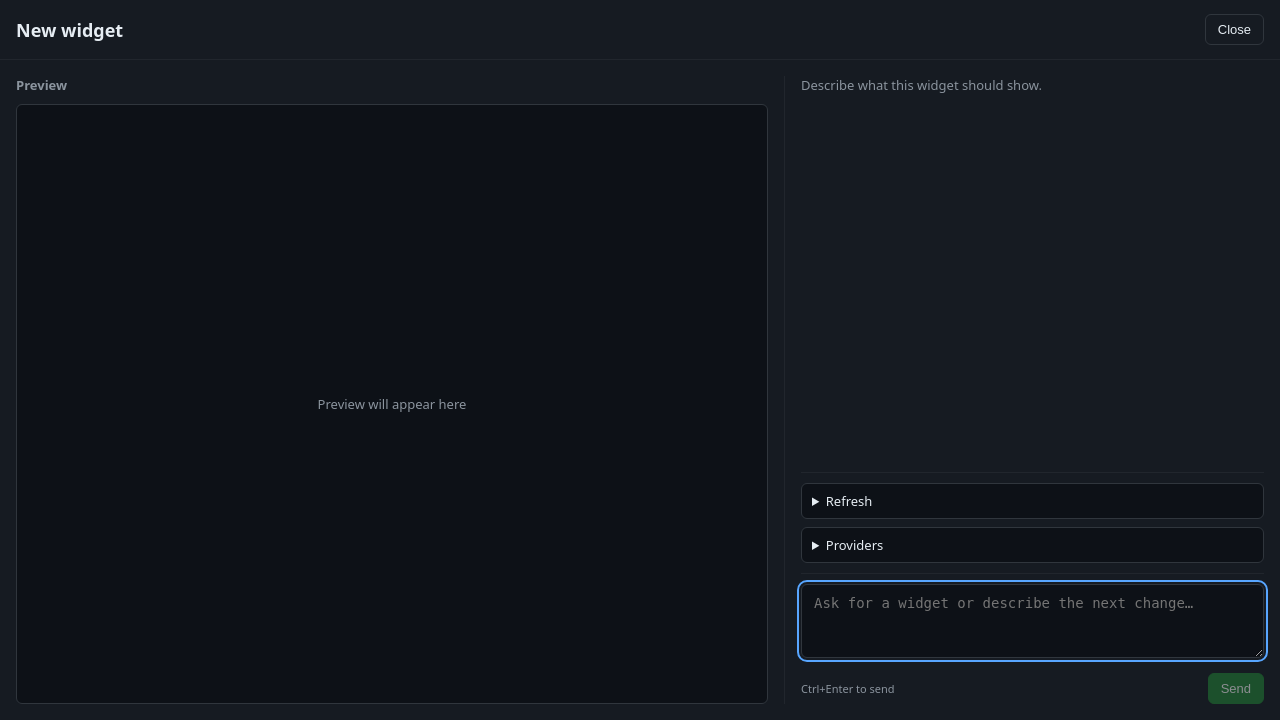
Scenario: WidgetWorkspace › scrolls to the bottom after sending a create message
This screenshot has width=1280, height=720.
In the text box named "widget message": (1032, 621) [801, 584, 1264, 658], type "show weather"
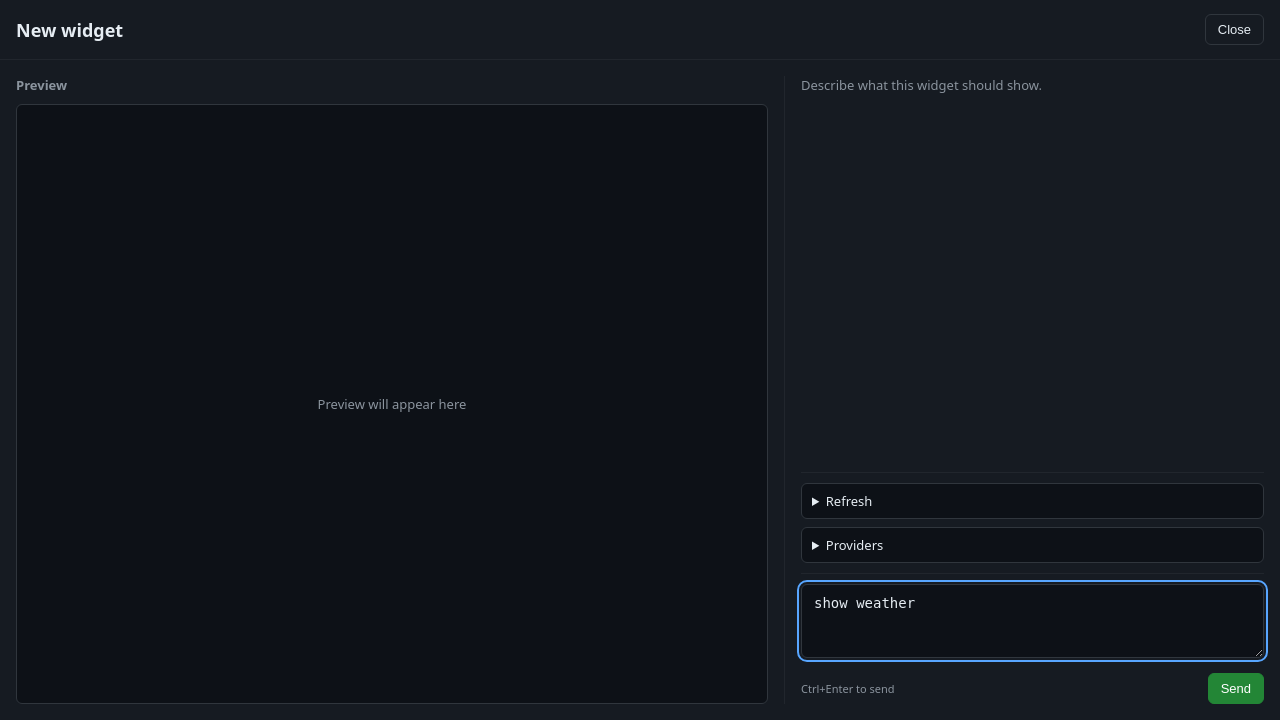
Click the button "Send": (1236, 688) [1208, 673, 1264, 704]
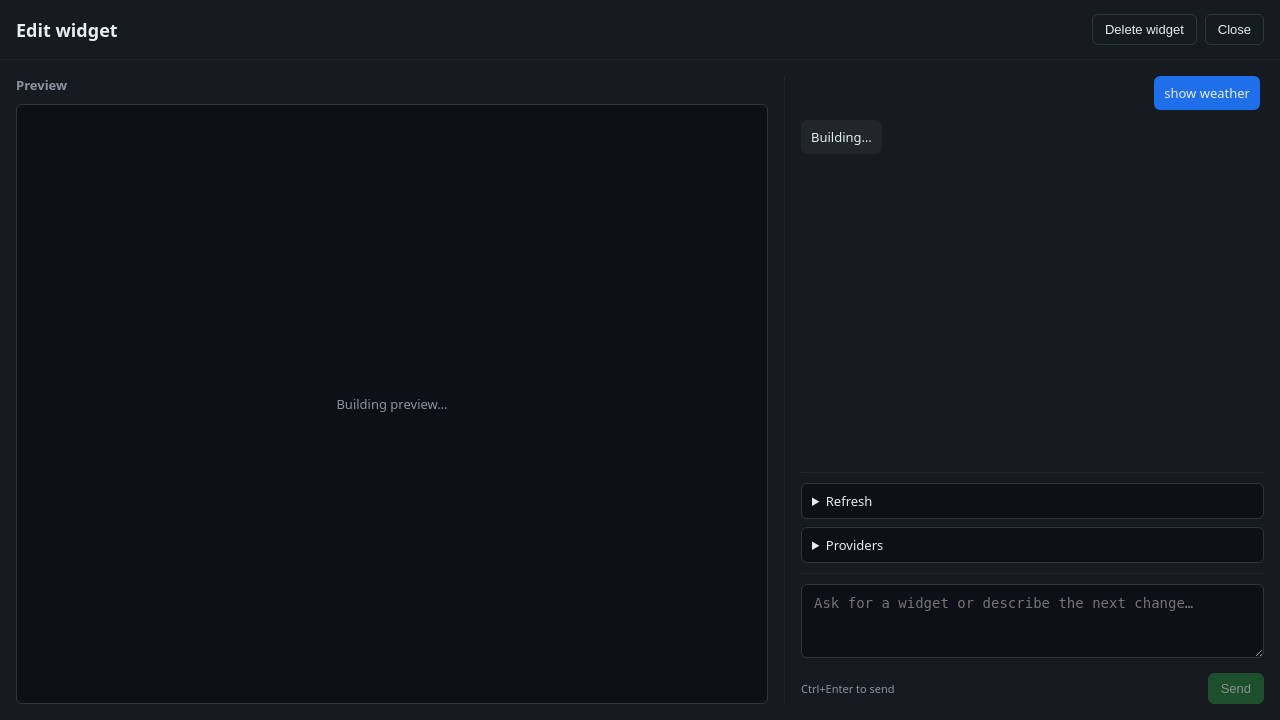
expect the text "show weather" is shown: met, box [1154, 76, 1260, 110]
expect the text "Building…" is shown: met, box [801, 120, 882, 154]
